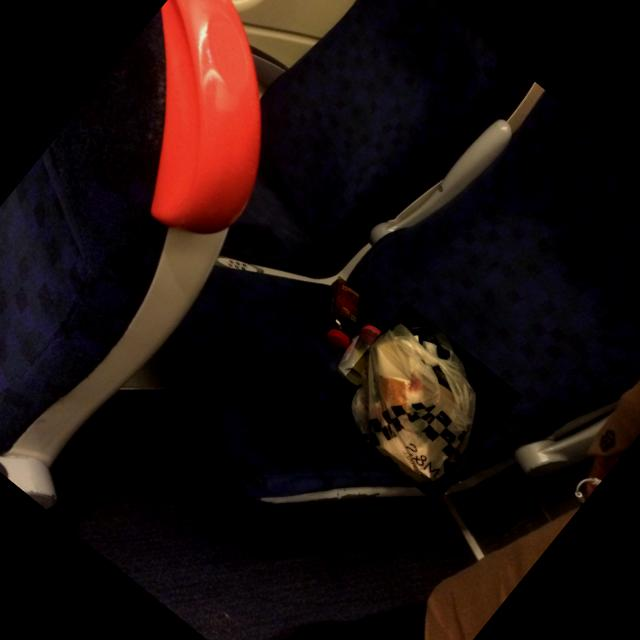Bottle cap: (326, 332, 349, 351)
Clear plastic bottle: (337, 325, 381, 388), (324, 279, 359, 351)
Single-use carrier bag: (351, 324, 476, 484)
